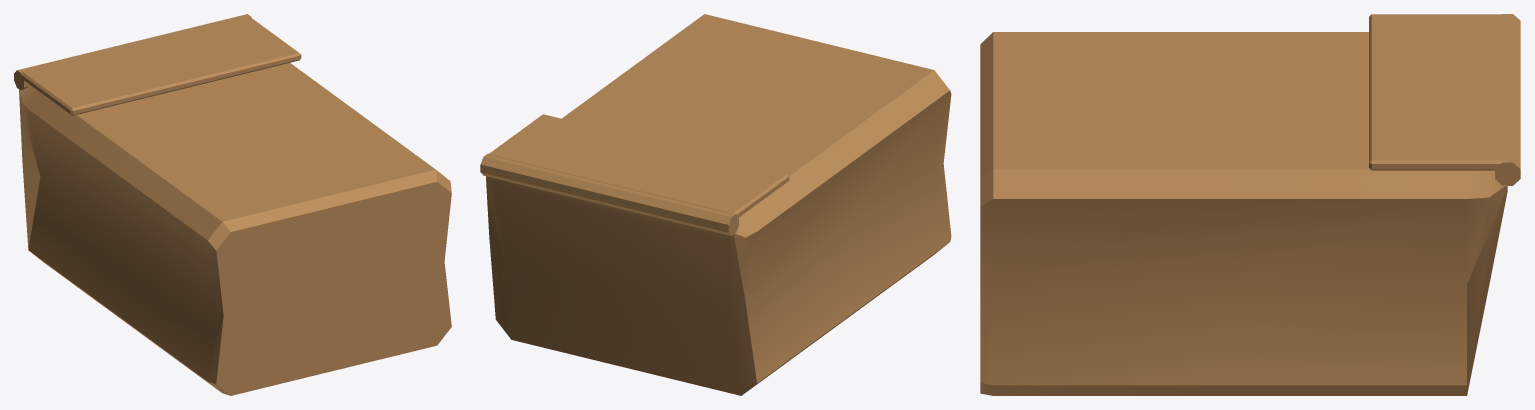
File: bolsa_panes_frances_6.glb
The picture shows the model from 3 angles, left to right: view 1: azimuth 30°, elevation 25°; view 2: azimuth 150°, elevation 25°; view 3: azimuth 270°, elevation 25°; orthographic projection. The views are drawn at different scales.
Visible parts, largest first — view 1: bolsa_panes_frances_6; view 2: bolsa_panes_frances_6; view 3: bolsa_panes_frances_6.
Part boxes in pixels (<box>): bolsa_panes_frances_6: <box>14,14,451,395</box>; bolsa_panes_frances_6: <box>480,14,951,395</box>; bolsa_panes_frances_6: <box>980,14,1520,395</box>.
Bounding box in the file's own units: 0.2 × 0.143 × 0.2919.
